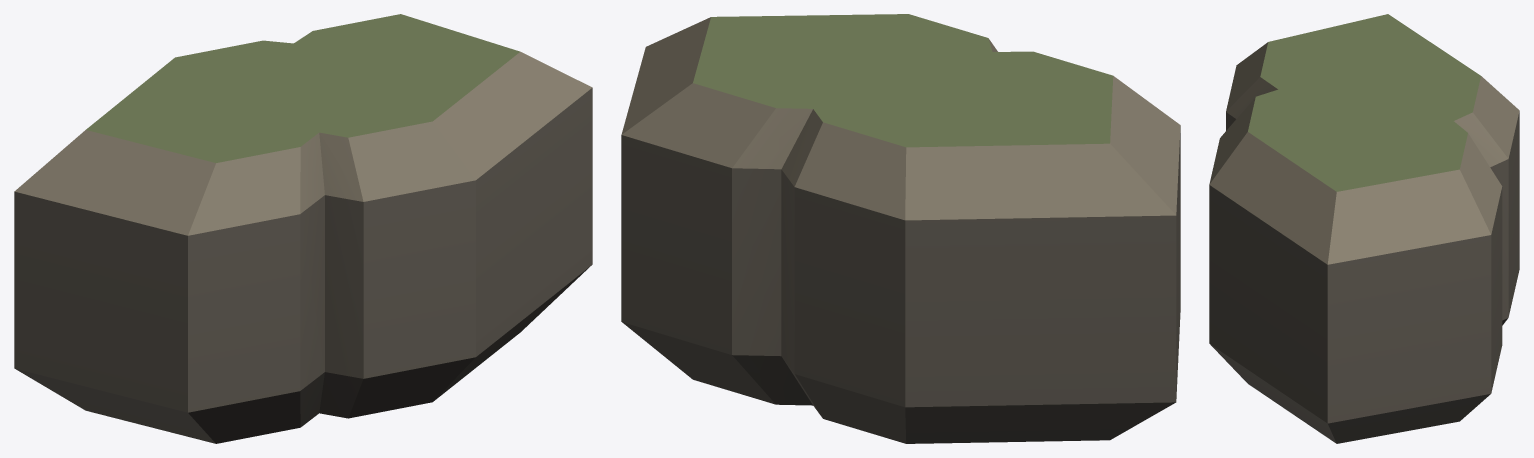
File: rock-small-2.glb
3 renders of one model, left to right at view 1: azimuth 30°, elevation 25°; view 2: azimuth 150°, elevation 25°; view 3: azimuth 270°, elevation 25°, orthographic. The views are drawn at different scales.
Visible parts, largest first — view 1: rock-small-2; view 2: rock-small-2; view 3: rock-small-2.
Part boxes in pixels (<box>): rock-small-2: <box>14,14,592,443</box>; rock-small-2: <box>621,14,1180,443</box>; rock-small-2: <box>1209,14,1519,443</box>.
Bounding box in the file's own units: 0.882 × 0.438 × 0.4887.
